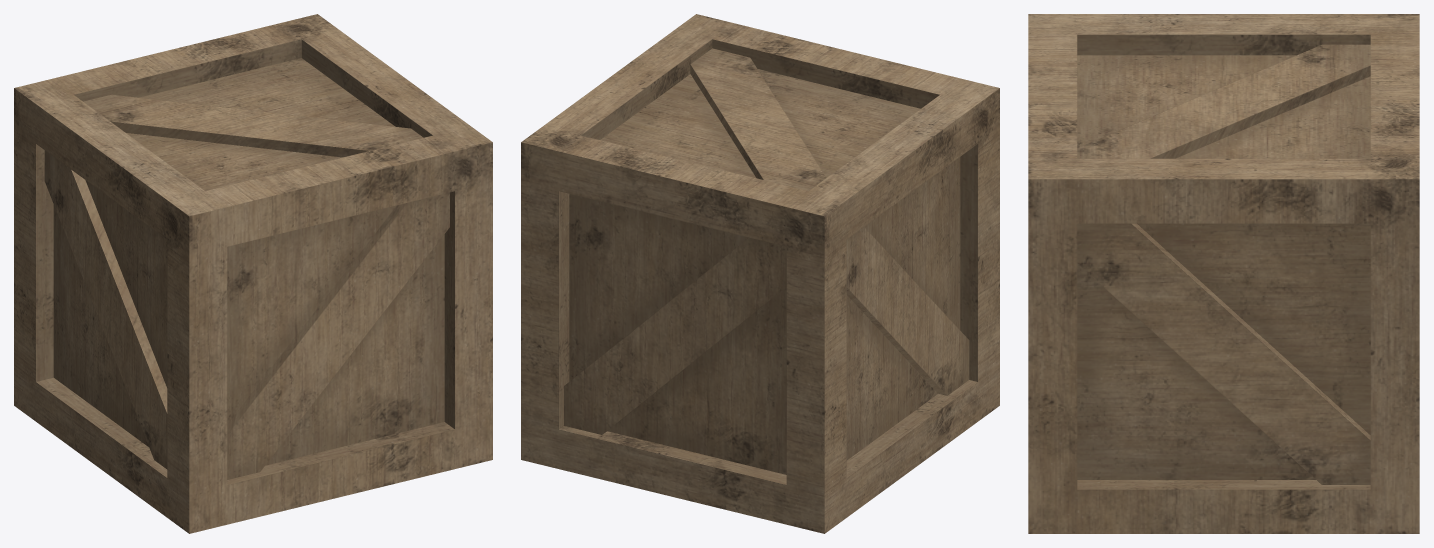
The model's file is box_crate.glb.
The picture shows the model from 3 angles, left to right: view 1: azimuth 30°, elevation 25°; view 2: azimuth 150°, elevation 25°; view 3: azimuth 270°, elevation 25°; orthographic projection. The views are drawn at different scales.
Parts seen in each view (by area): view 1: Crate_Box; view 2: Crate_Box; view 3: Crate_Box.
Boxes of the visible parts, x1=… form: Crate_Box: x1=14, y1=14, x2=492, y2=533; Crate_Box: x1=521, y1=14, x2=999, y2=533; Crate_Box: x1=1028, y1=14, x2=1419, y2=533.
Bounding box in the file's own units: 16 × 16 × 16.
1 material, 1 textured.
